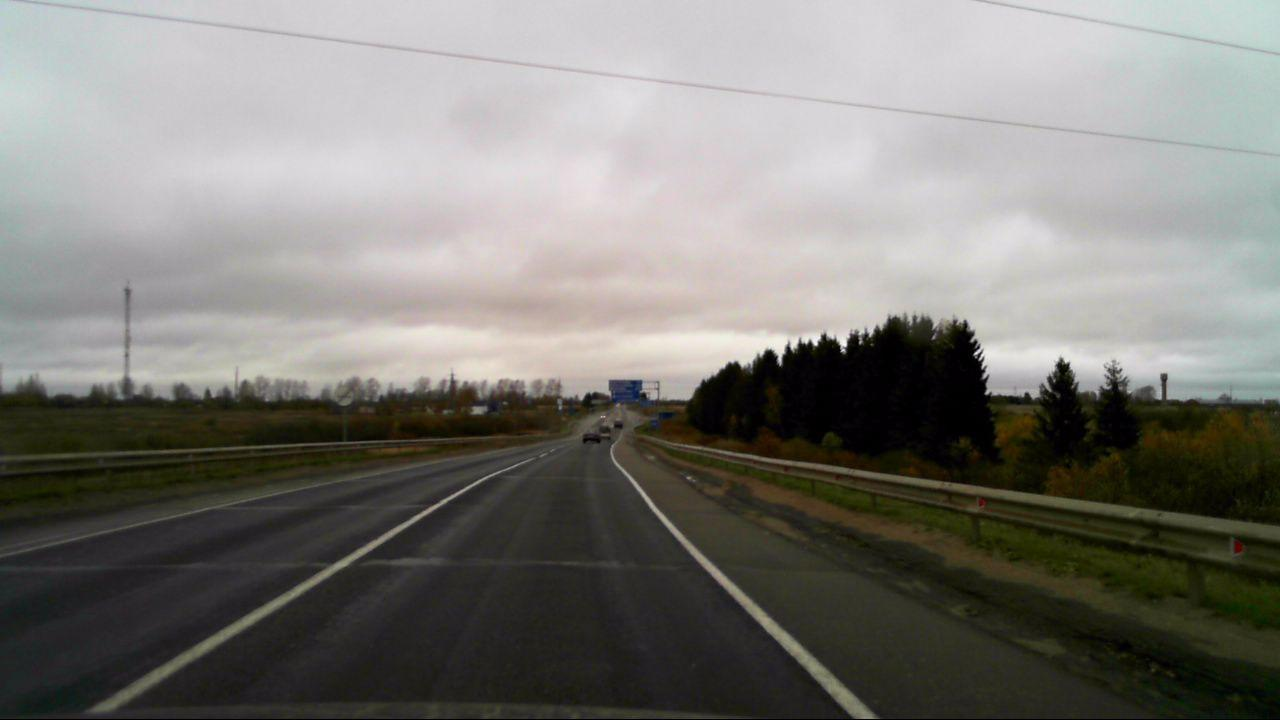3_21: (334, 382, 357, 405)
